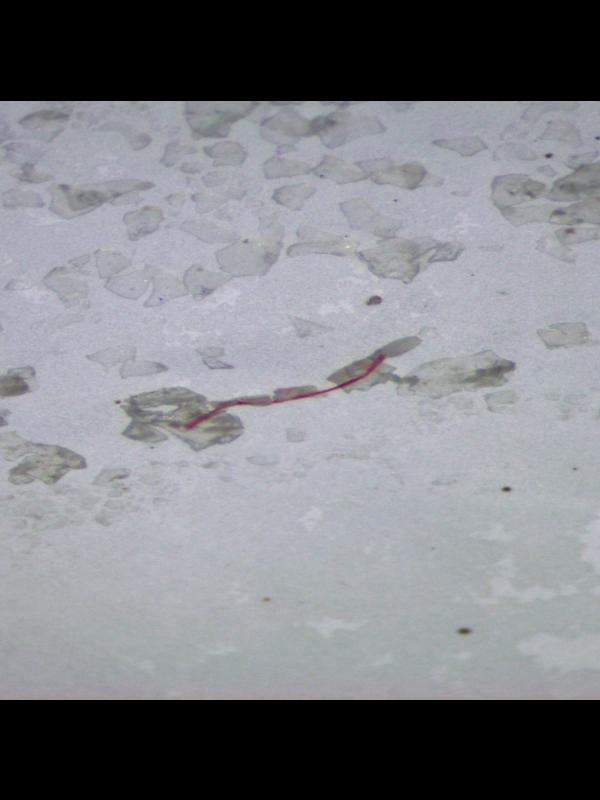microplastic: (183, 334, 426, 430)
